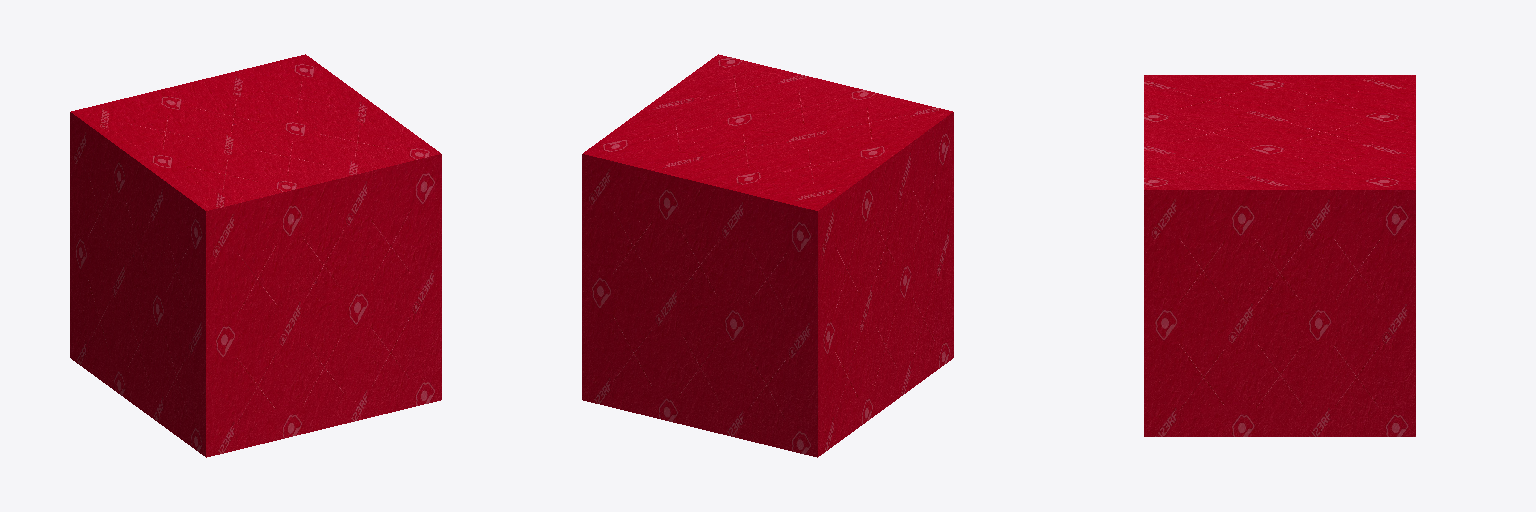
3 renders of one model, left to right at view 1: azimuth 30°, elevation 25°; view 2: azimuth 150°, elevation 25°; view 3: azimuth 270°, elevation 25°, orthographic.
Visible parts, largest first — view 1: cube; view 2: cube; view 3: cube.
Part boxes in pixels (bbox=[...]): cube: bbox=[70, 54, 441, 457]; cube: bbox=[582, 54, 953, 457]; cube: bbox=[1144, 75, 1415, 436].
Size of the model in its own units: 1 by 1 by 1.
Materials: 1 (1 with a texture image).